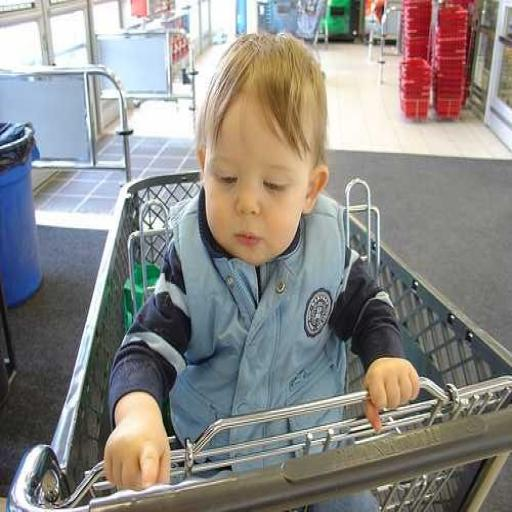shopping_cart: (5, 167, 512, 511)
